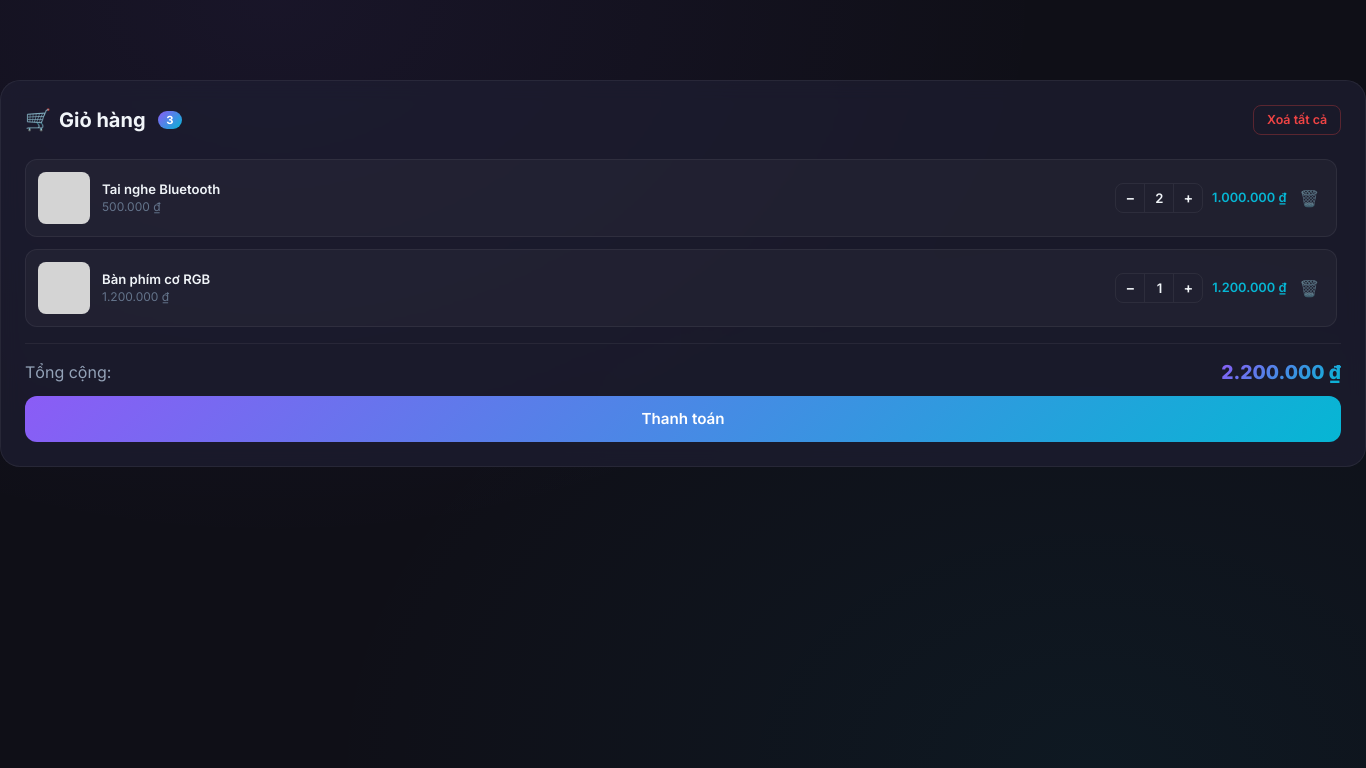
Cart Component (Integration) › TC26: clicking "Xoá tất cả" button should clear the entire cart
Click the button "Xoá tất cả": (1297, 120) [1253,105,1341,135]
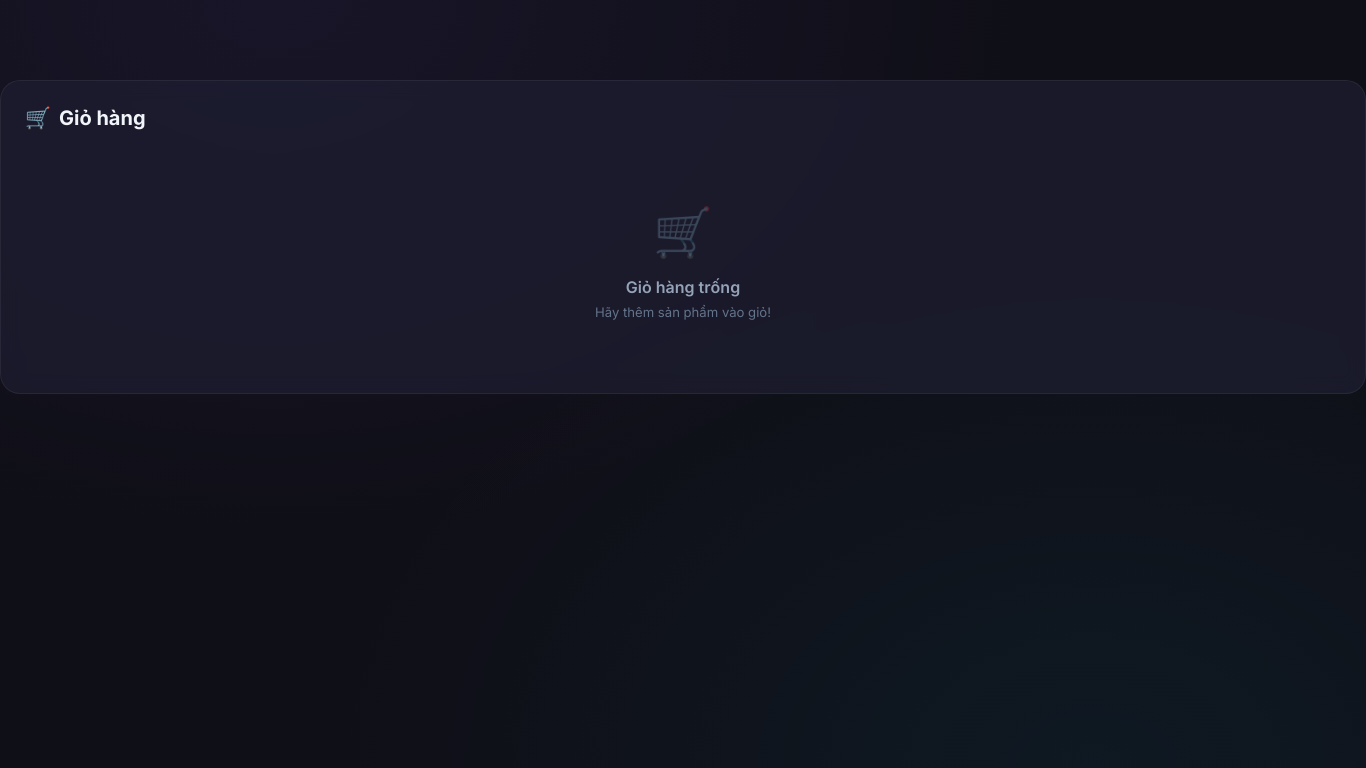
Result: the text "Giỏ hàng trống" is shown at [626,277,740,297]
